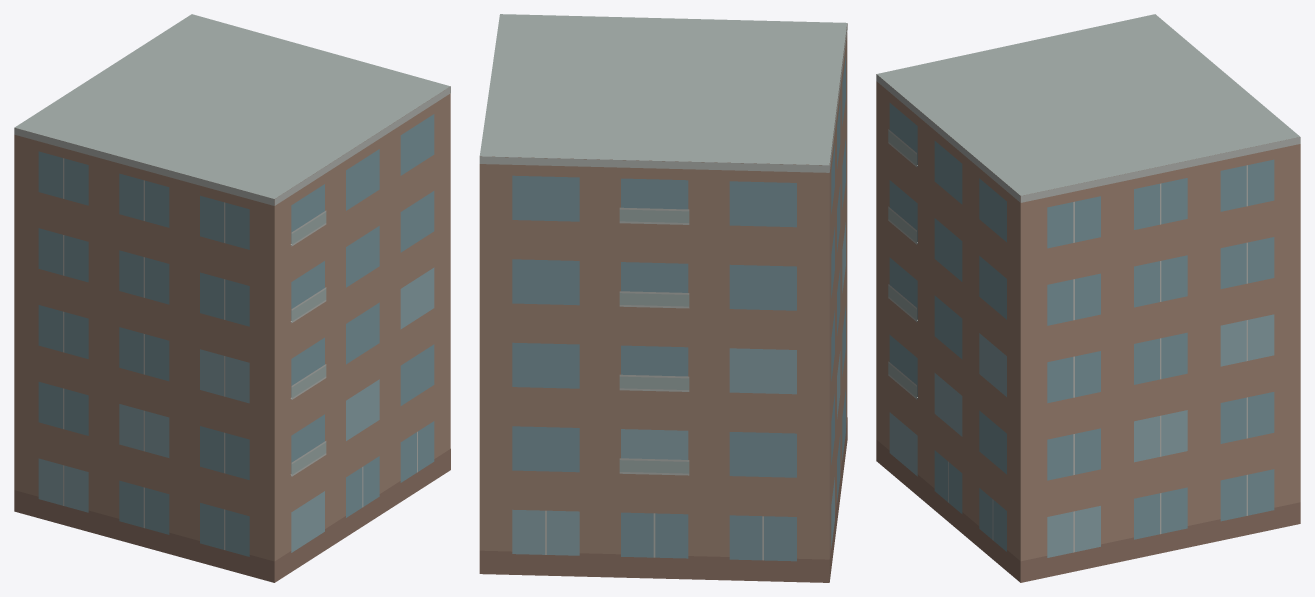
Rendered from survey-upis-32840236.glb.
The picture shows the model from 3 angles, left to right: view 1: azimuth 30°, elevation 25°; view 2: azimuth 150°, elevation 25°; view 3: azimuth 270°, elevation 25°; orthographic projection. The views are drawn at different scales.
Visible parts, largest first — view 1: survey-upis-32840236.tmp; view 2: survey-upis-32840236.tmp; view 3: survey-upis-32840236.tmp.
Boxes of the visible parts, x1,y1,x2,y2 form: survey-upis-32840236.tmp: (14,14,450,582); survey-upis-32840236.tmp: (479,14,847,582); survey-upis-32840236.tmp: (876,14,1300,582).
Bounding box in the file's own units: 13.52 × 13.4 × 13.32.
